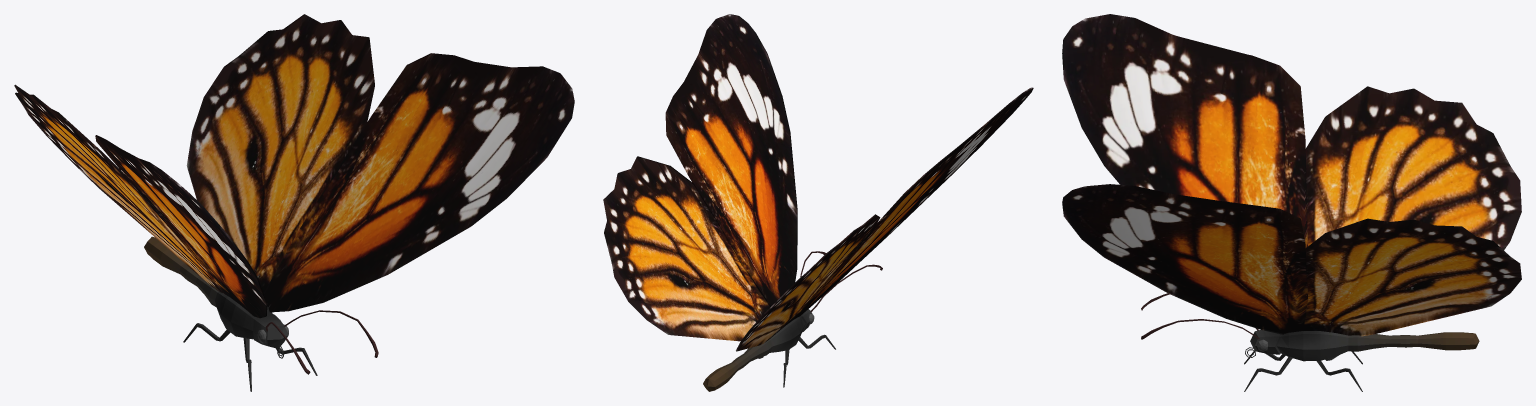
File: Butterfly.glb
The picture shows the model from 3 angles, left to right: view 1: azimuth 30°, elevation 25°; view 2: azimuth 150°, elevation 25°; view 3: azimuth 270°, elevation 25°; orthographic projection. The views are drawn at different scales.
Visible parts, largest first — view 1: Node; view 2: Node; view 3: Node.
Part boxes in pixels (left/top/right/bottom): Node: left=14, top=14, right=574, bottom=391; Node: left=603, top=14, right=1033, bottom=391; Node: left=1062, top=14, right=1521, bottom=391.
Bounding box in the file's own units: 16.25 × 12.37 × 18.47.
Materials: 4 (1 with a texture image).
